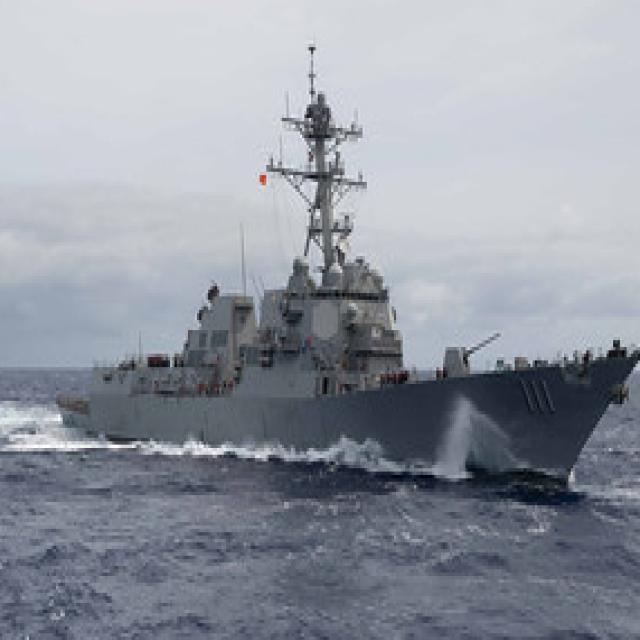navalvessels: (36, 64, 640, 515)
